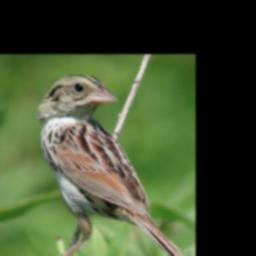Sparrow: (35, 74, 190, 256)
